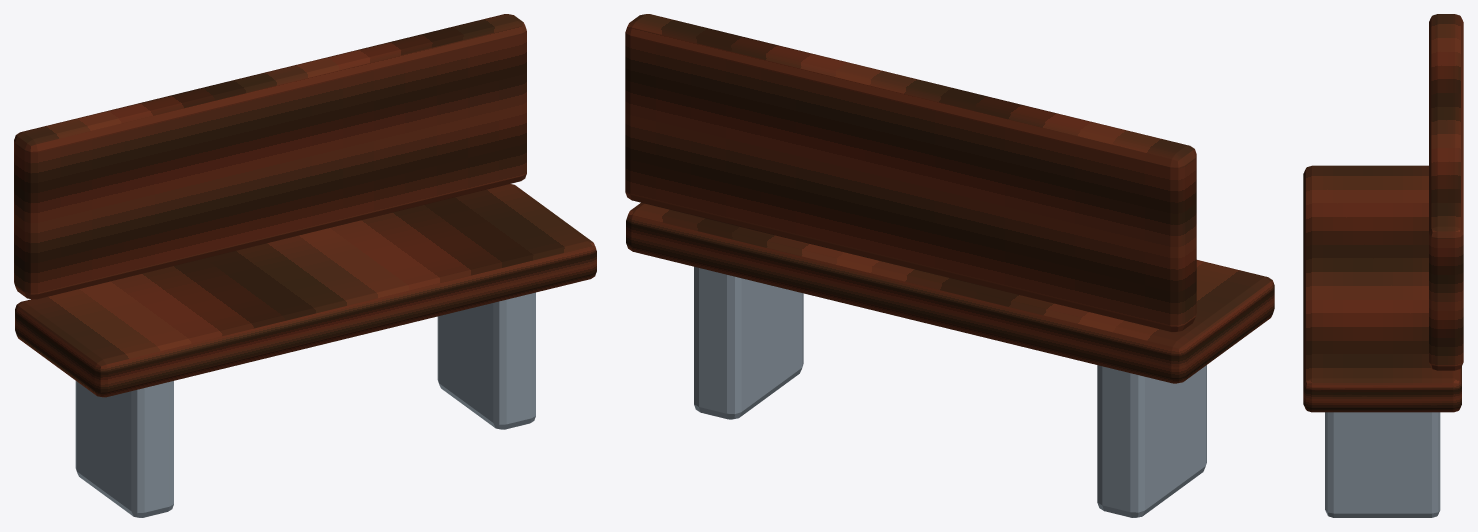
File: Bench.glb
3 views of the same model, side by side, from view 1: azimuth 30°, elevation 25°; view 2: azimuth 150°, elevation 25°; view 3: azimuth 270°, elevation 25° (orthographic). The views are drawn at different scales.
Parts seen in each view (by area): view 1: Backrest, Seat, Bench Leg, Bench Leg.001; view 2: Backrest, Seat, Bench Leg, Bench Leg.001; view 3: Seat, Backrest, Bench Leg.001.
Boxes of the visible parts, left/top/right/bottom form: Backrest: left=14, top=14, right=526, bottom=299; Seat: left=15, top=184, right=596, bottom=397; Bench Leg: left=75, top=381, right=173, bottom=517; Bench Leg.001: left=437, top=292, right=535, bottom=429; Backrest: left=625, top=14, right=1196, bottom=332; Seat: left=626, top=202, right=1274, bottom=383; Bench Leg: left=1097, top=365, right=1206, bottom=517; Bench Leg.001: left=694, top=266, right=803, bottom=419; Seat: left=1303, top=165, right=1461, bottom=412; Backrest: left=1429, top=14, right=1463, bottom=370; Bench Leg.001: left=1325, top=412, right=1440, bottom=517.
Size of the model in its own units: 1.8 by 1.2 by 0.555.
Materials: 2 (1 with a texture image).
